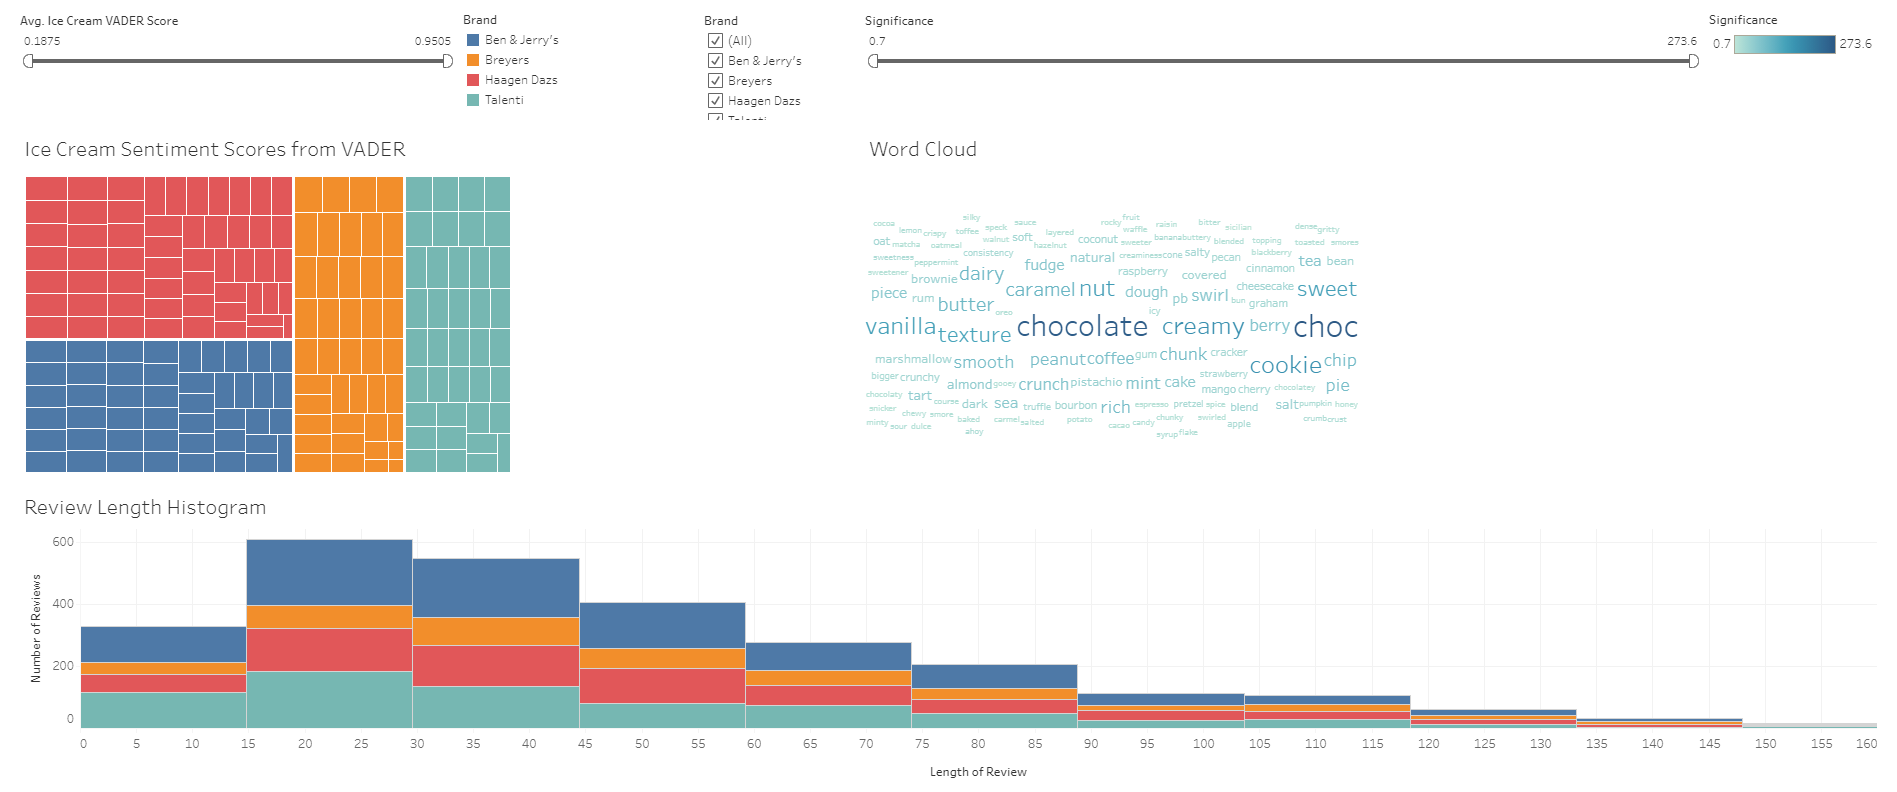

Layout of this report page (visuals, bound fields, positions):
{"tool":"tableau","page":{"name":"Ice Cream Dashboard","canvas":[1000,1000],"units":"permille","ordinal":0},"visuals":[{"type":"worksheet","box":[0,0,1000,1000]},{"type":"worksheet","title":"Tree Map","mark":"Automatic","param":"[federated.1kkkqg50h30p3h1db4upv0zhx220].[avg:compound:qk]","box":[4.7,8.8,235.2,147.1]},{"type":"worksheet","title":"Tree Map","mark":"Automatic","param":"[federated.1kkkqg50h30p3h1db4upv0zhx220].[none:brand:nk]","box":[239.9,8.8,128.1,147.1]},{"type":"worksheet","title":"Tree Map","mark":"Automatic","param":"[federated.1kkkqg50h30p3h1db4upv0zhx220].[none:brand:nk]","box":[368.1,8.8,85.4,147.1]},{"type":"worksheet","title":"Word Cloud","mark":"Text","param":"[federated.0p10rmo097qvud15kglox10y18ot].[attr:significance:qk]","box":[453.5,8.8,448.2,147.1]},{"type":"worksheet","title":"Word Cloud","mark":"Text","param":"[federated.0p10rmo097qvud15kglox10y18ot].[attr:significance:qk]","box":[901.7,8.8,93.6,147.1]},{"type":"worksheet","param":"horz","box":[4.7,156,990.6,449.1]},{"type":"worksheet","box":[4.7,156,990.6,449.1]},{"type":"worksheet","title":"Tree Map","mark":"Automatic","box":[4.7,156,448.8,449.1]},{"type":"worksheet","title":"Word Cloud","mark":"Text","box":[453.5,156,541.8,449.1]},{"type":"worksheet","param":"vert","box":[4.7,605.1,990.6,386.1]},{"type":"worksheet","title":"Review Length Histogram","mark":"Automatic","rows":["Calculation_1395834459917340672"],"cols":["Word Count (bin)"],"box":[4.7,605.1,990.6,386.1]}]}

Visuals, with their boxes on the dashboard's canvas, which has no fixed pixel size, in thousandths of its width and height (x1, y1, x2, y2). These are canvas units, not pixel positions in the 1897x792 screenshot, which may show the page scaled, cropped or inside an application window:
worksheet: locate(0, 0, 1000, 1000)
"Tree Map" worksheet: locate(5, 9, 240, 156)
"Tree Map" worksheet: locate(240, 9, 368, 156)
"Tree Map" worksheet: locate(368, 9, 454, 156)
"Word Cloud" worksheet (Text marks): locate(454, 9, 902, 156)
"Word Cloud" worksheet (Text marks): locate(902, 9, 995, 156)
worksheet: locate(5, 156, 995, 605)
worksheet: locate(5, 156, 995, 605)
"Tree Map" worksheet: locate(5, 156, 454, 605)
"Word Cloud" worksheet (Text marks): locate(454, 156, 995, 605)
worksheet: locate(5, 605, 995, 991)
"Review Length Histogram" worksheet: locate(5, 605, 995, 991)
